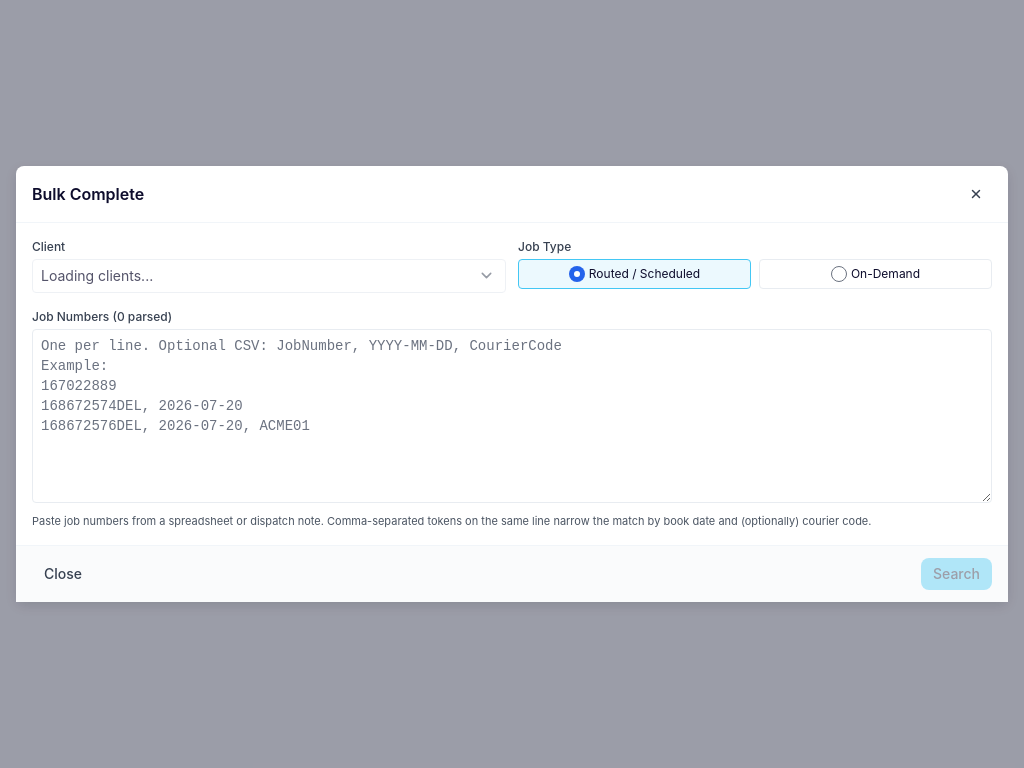
Test case: BulkCompleteModal › search fail toast when /search-for-complete throws
Replace the text in the text box with "J1". click: (512, 416)
box: [32, 329, 992, 503]
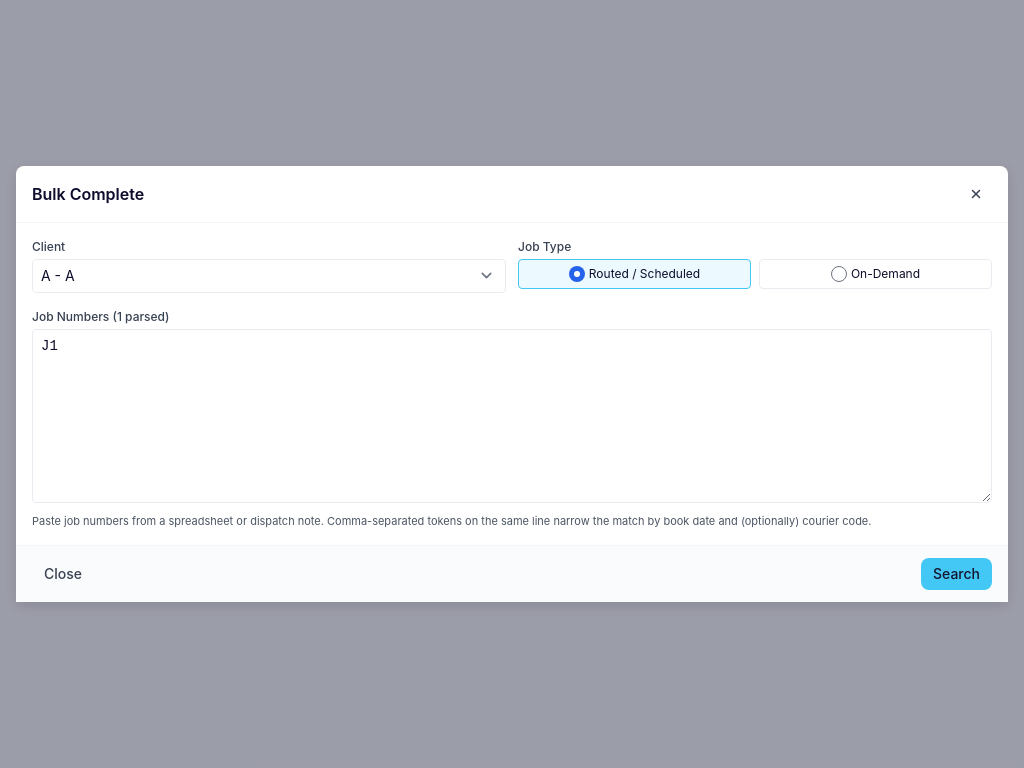
Click the button "Search". click: (956, 574)
box: [921, 558, 992, 590]
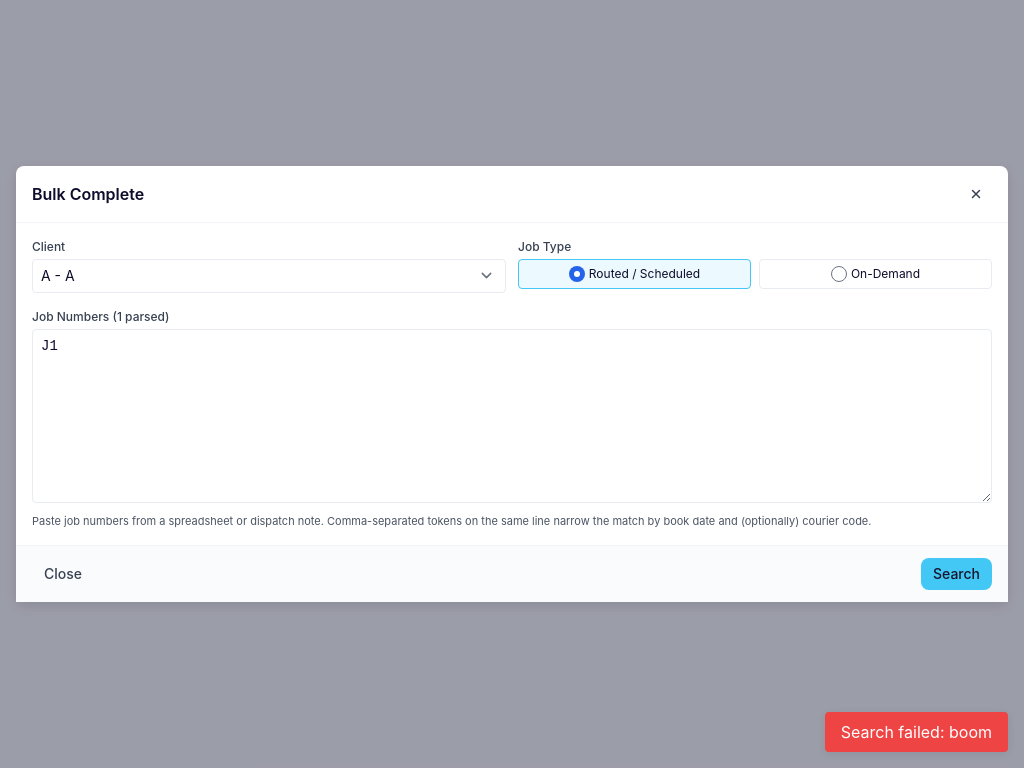
Expected: the text "Search failed: boom" is shown, [825, 712, 1008, 752]
